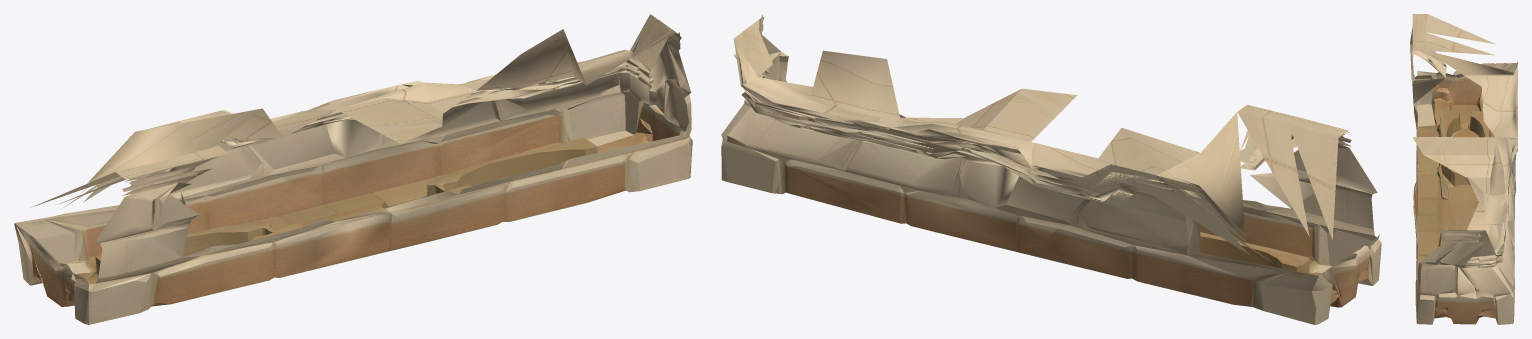
File: wall_wreck.glb
3 renders of one model, left to right at view 1: azimuth 30°, elevation 25°; view 2: azimuth 150°, elevation 25°; view 3: azimuth 270°, elevation 25°, orthographic. The views are drawn at different scales.
Visible parts, largest first — view 1: wall.001, roof.001; view 2: wall.001, roof.001; view 3: wall.001, roof.001.
Boxes of the visible parts, x1,y1,x2,y2 form: wall.001: (14,14,692,324); roof.001: (31,21,676,207); wall.001: (721,14,1381,324); roof.001: (734,20,1348,239); wall.001: (1410,27,1517,324); roof.001: (1412,14,1517,253).
Size of the model in its own units: 3.01 by 0.6564 by 0.6132.
1 material, 1 textured.
